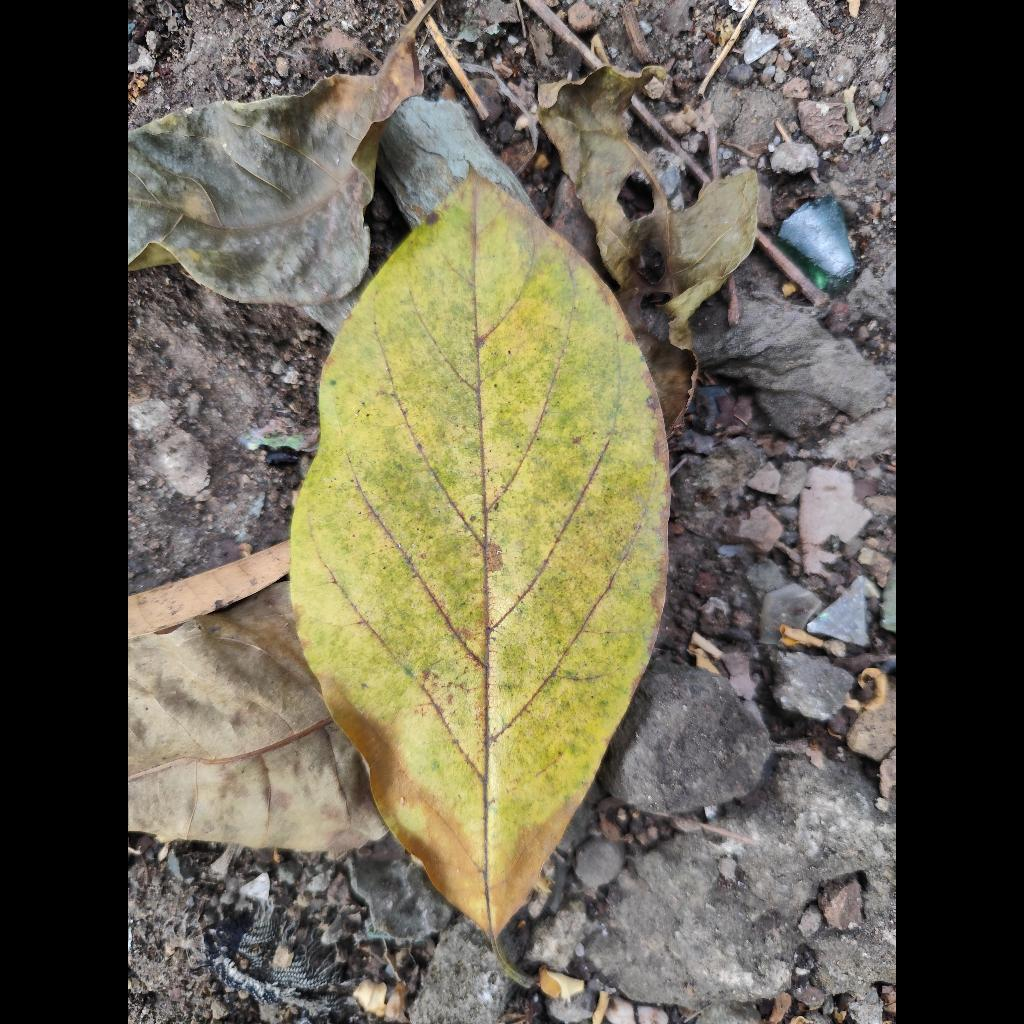deficiencia_nutricional: (291, 171, 668, 937)
